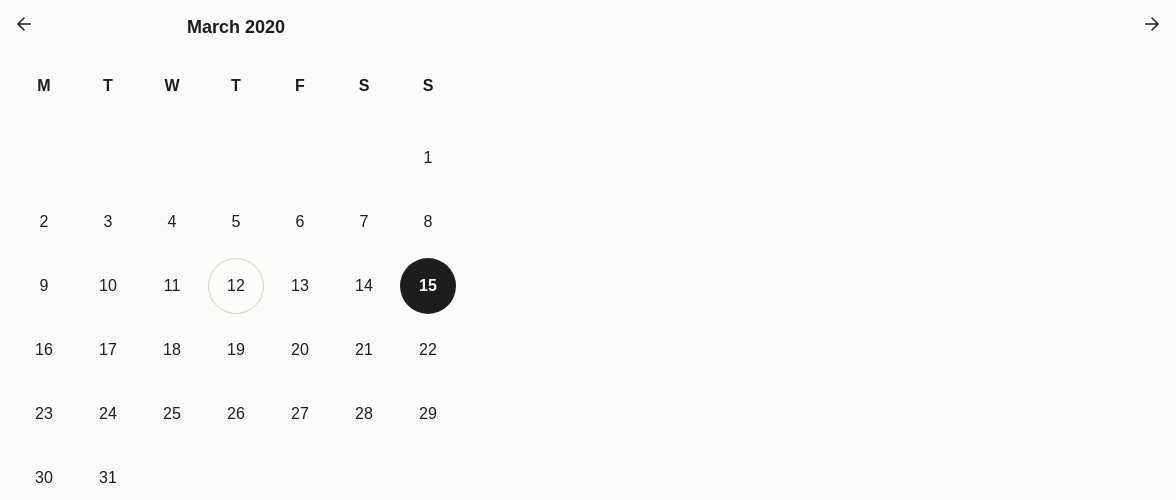
Test: navigation › should navigate to the next month
The width and height of the screenshot is (1176, 500).
Click the 2nd button named "next month": (1152, 24) [1140,12,1164,36]
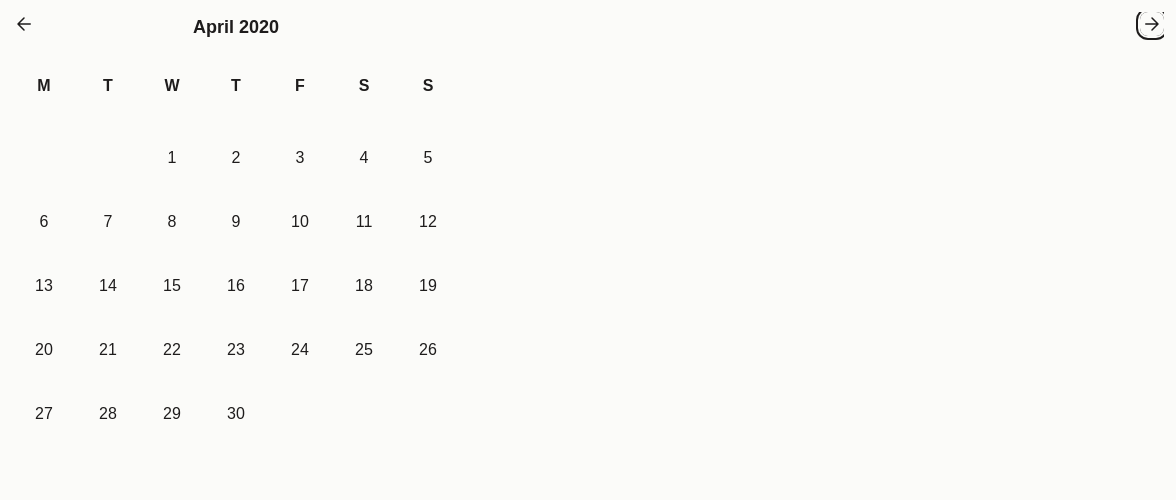
expect the heading "April 2020" is shown: met, box [193,17,279,37]
